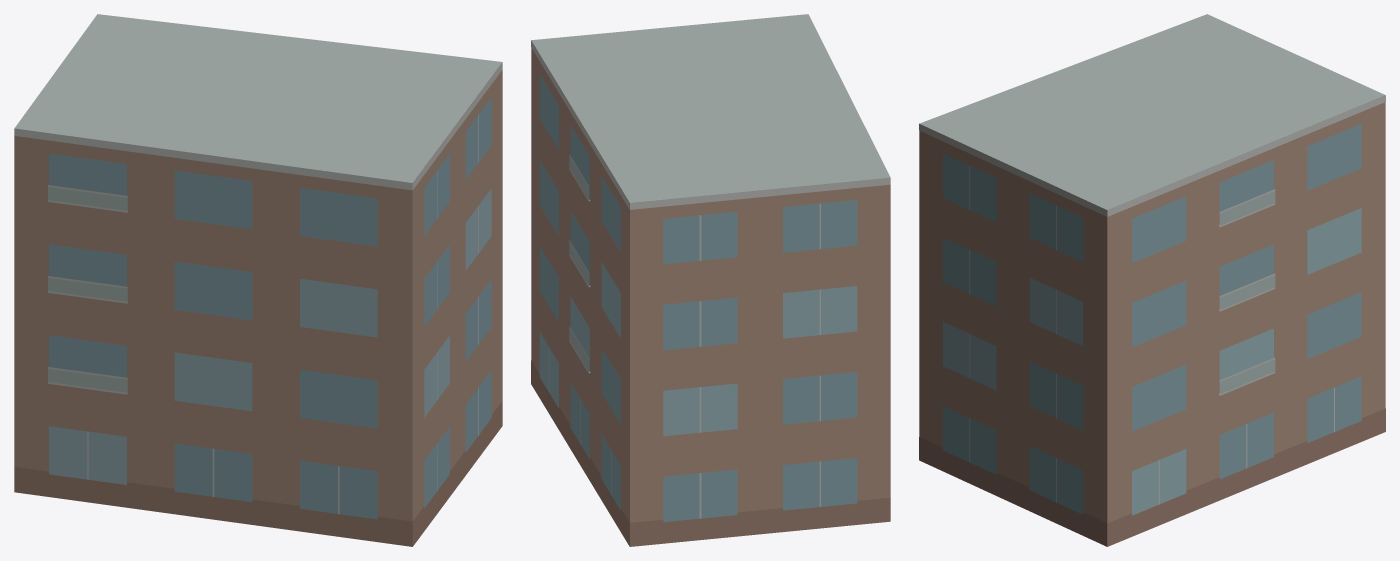
File: survey-upis-33018173.glb
The picture shows the model from 3 angles, left to right: view 1: azimuth 30°, elevation 25°; view 2: azimuth 150°, elevation 25°; view 3: azimuth 270°, elevation 25°; orthographic projection. The views are drawn at different scales.
Parts seen in each view (by area): view 1: survey-upis-33018173.tmp; view 2: survey-upis-33018173.tmp; view 3: survey-upis-33018173.tmp.
Boxes of the visible parts, bbox=[...] form: survey-upis-33018173.tmp: bbox=[14, 14, 502, 546]; survey-upis-33018173.tmp: bbox=[531, 14, 890, 546]; survey-upis-33018173.tmp: bbox=[919, 14, 1385, 546].
Bounding box in the file's own units: 15.1 × 12.08 × 15.18.
